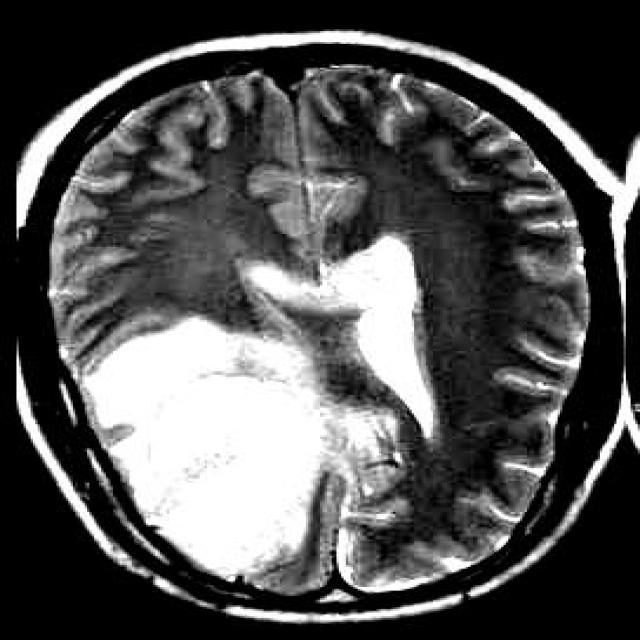tumor: (32, 196, 470, 609), (154, 230, 162, 232)
